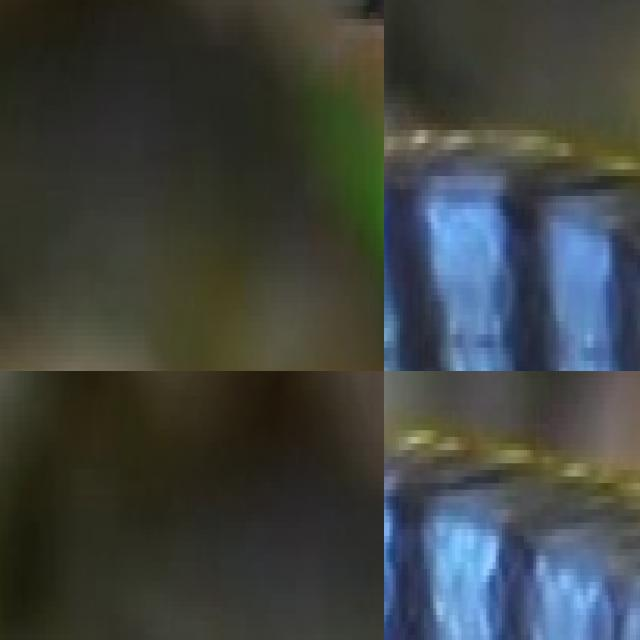fish: (0, 0, 384, 371), (0, 371, 384, 640)
